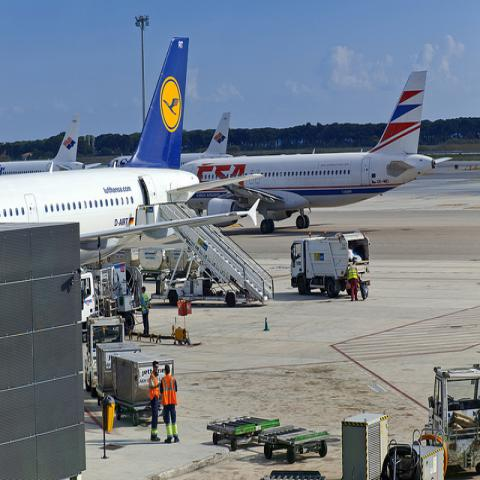truck: (424, 364, 480, 475), (290, 229, 371, 295), (85, 315, 124, 398), (80, 270, 96, 343)
